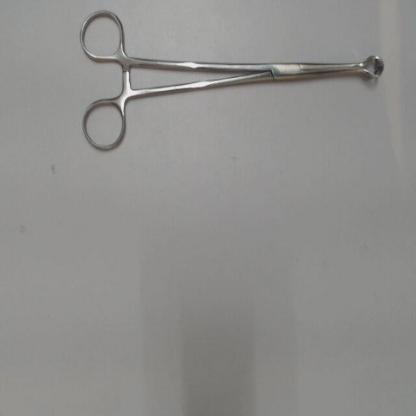8 Babcock Tissue Forceps: (76, 5, 388, 159)
